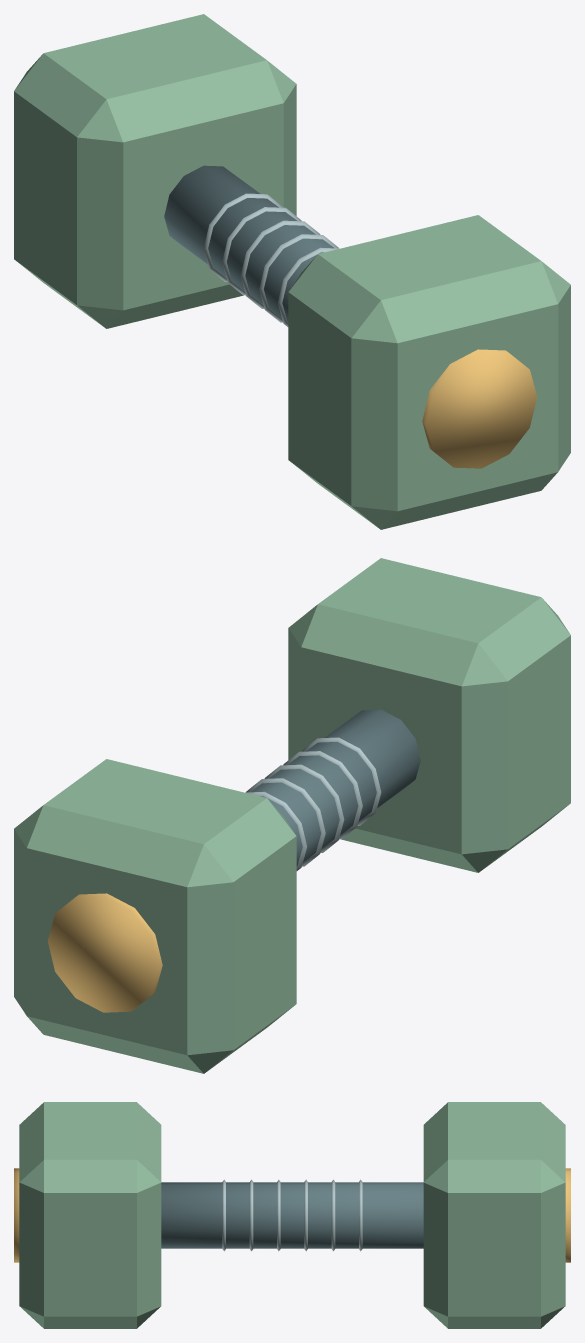
File: haltere.glb
3 renders of one model, top to bottom at view 1: azimuth 30°, elevation 25°; view 2: azimuth 150°, elevation 25°; view 3: azimuth 270°, elevation 25°, orthographic. The views are drawn at different scales.
Visible parts, largest first — view 1: haltere; view 2: haltere; view 3: haltere.
Part boxes in pixels (x1,y1,x2,y2): haltere: [14, 14, 570, 529]; haltere: [14, 558, 570, 1073]; haltere: [14, 1102, 570, 1328].
Bounding box in the file's own units: 0.067 × 0.067 × 0.2.
